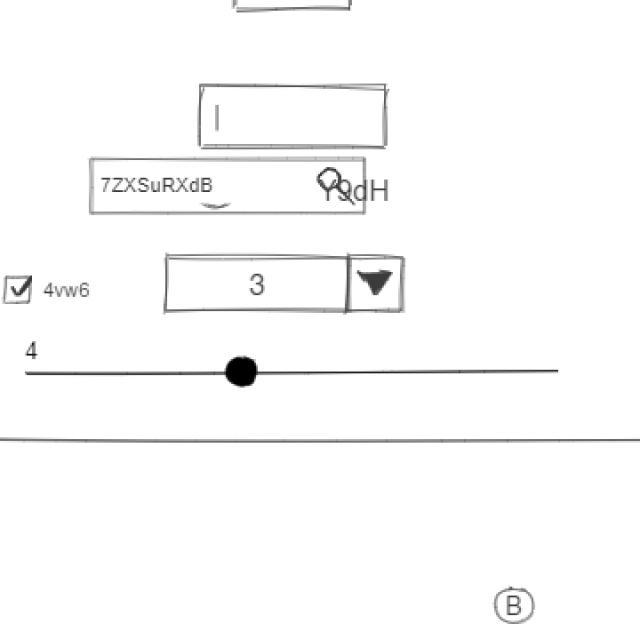button: (229, 1, 357, 19)
checkbox: (2, 272, 98, 308)
container: (1, 433, 640, 640)
icon-button: (491, 584, 539, 629)
input: (195, 78, 392, 154)
search: (87, 156, 372, 220)
select: (160, 250, 411, 319)
slider: (39, 339, 563, 393)
